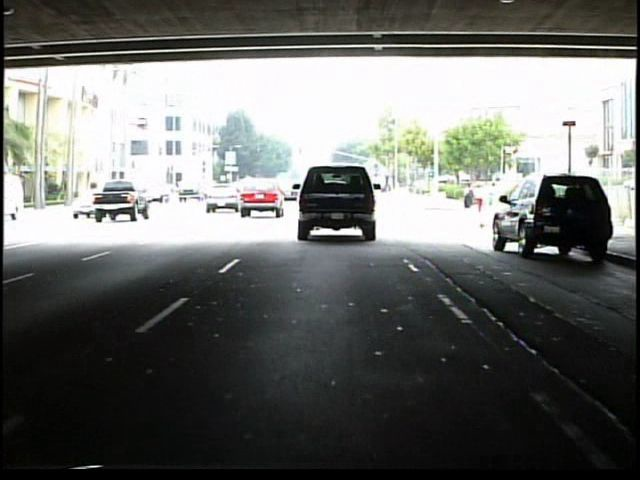person: (487, 179, 502, 216), (462, 180, 477, 215), (475, 184, 486, 211)
